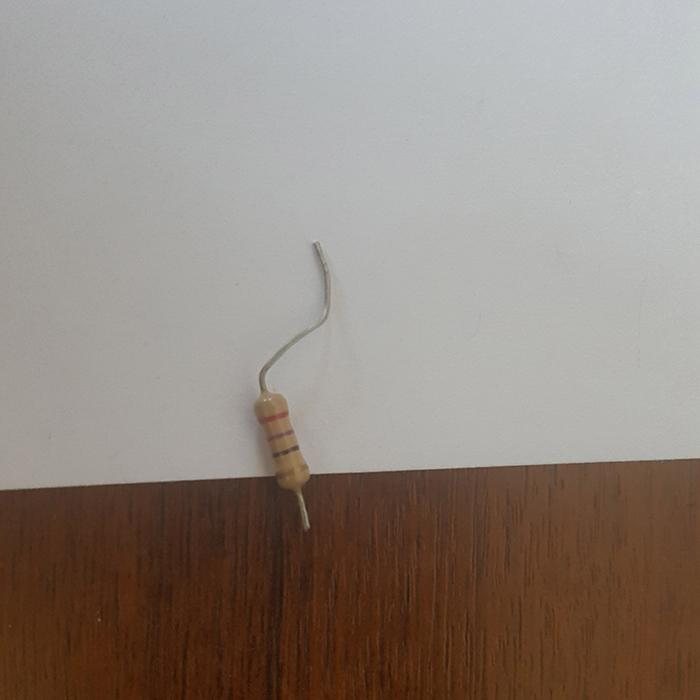resistor: (252, 388, 310, 497)
